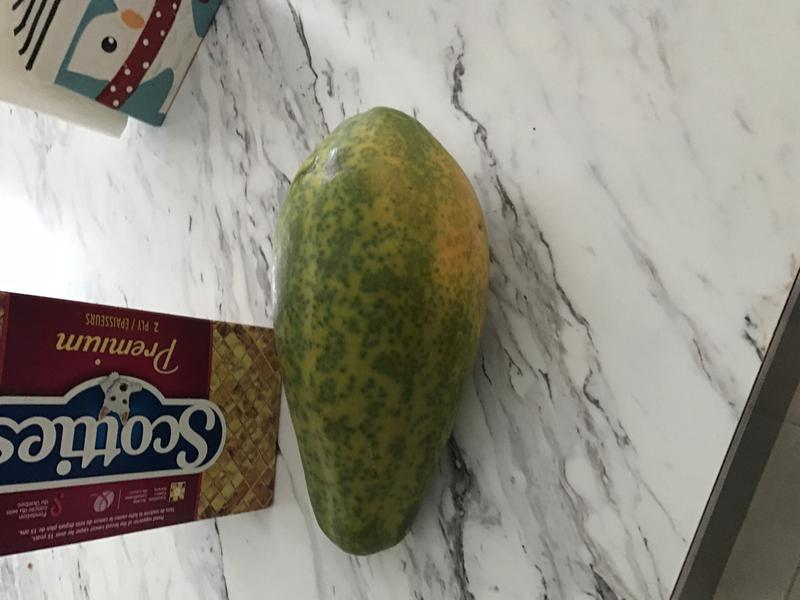papaya: (268, 102, 499, 562)
